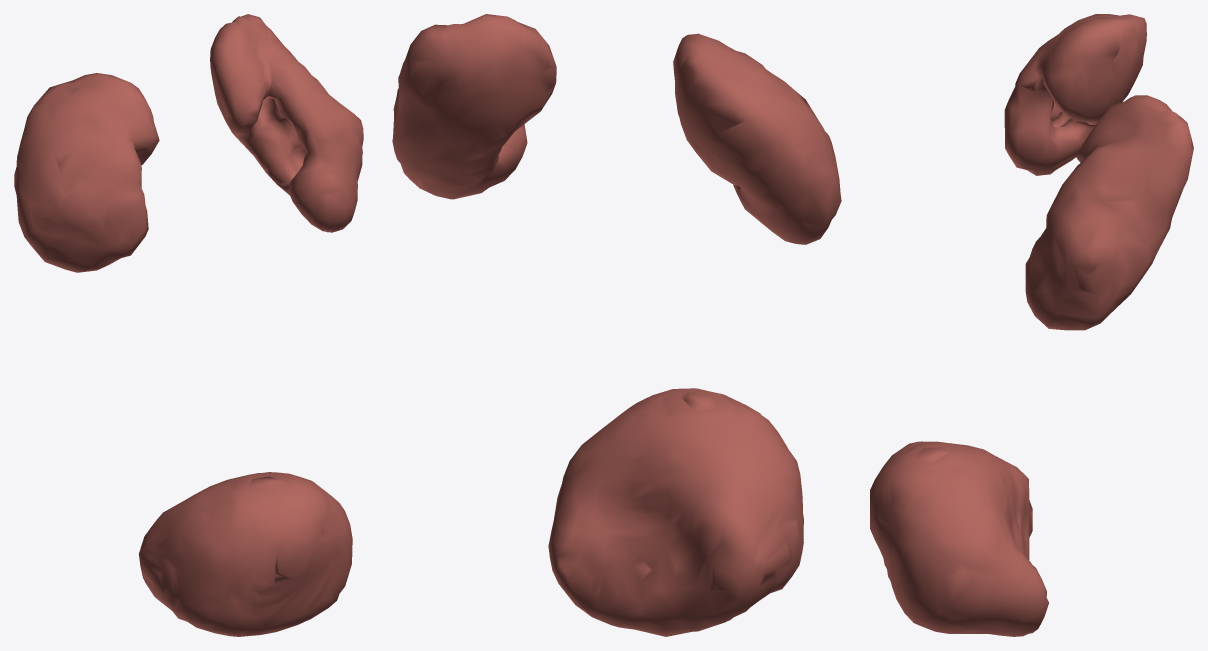
Rendered from tsd_s0196_older_adult_female.urinary.LOD3.glb.
3 views of the same model, side by side, from view 1: azimuth 30°, elevation 25°; view 2: azimuth 150°, elevation 25°; view 3: azimuth 270°, elevation 25° (orthographic). The views are drawn at different scales.
Parts seen in each view (by area): view 1: TSD_S0196.OLDER_ADULT.FEMALE.URINARY.URINARY_BLADDER, TSD_S0196.OLDER_ADULT.FEMALE.URINARY.KIDNEY.R, TSD_S0196.OLDER_ADULT.FEMALE.URINARY.KIDNEY.L; view 2: TSD_S0196.OLDER_ADULT.FEMALE.URINARY.URINARY_BLADDER, TSD_S0196.OLDER_ADULT.FEMALE.URINARY.KIDNEY.L, TSD_S0196.OLDER_ADULT.FEMALE.URINARY.KIDNEY.R; view 3: TSD_S0196.OLDER_ADULT.FEMALE.URINARY.URINARY_BLADDER, TSD_S0196.OLDER_ADULT.FEMALE.URINARY.KIDNEY.L, TSD_S0196.OLDER_ADULT.FEMALE.URINARY.KIDNEY.R.
Part boxes in pixels (x1,y1,x2,y2): TSD_S0196.OLDER_ADULT.FEMALE.URINARY.URINARY_BLADDER: [139, 472, 352, 636]; TSD_S0196.OLDER_ADULT.FEMALE.URINARY.KIDNEY.R: [14, 73, 159, 272]; TSD_S0196.OLDER_ADULT.FEMALE.URINARY.KIDNEY.L: [210, 14, 363, 232]; TSD_S0196.OLDER_ADULT.FEMALE.URINARY.URINARY_BLADDER: [548, 388, 803, 636]; TSD_S0196.OLDER_ADULT.FEMALE.URINARY.KIDNEY.L: [392, 14, 556, 199]; TSD_S0196.OLDER_ADULT.FEMALE.URINARY.KIDNEY.R: [673, 33, 841, 244]; TSD_S0196.OLDER_ADULT.FEMALE.URINARY.URINARY_BLADDER: [870, 441, 1048, 636]; TSD_S0196.OLDER_ADULT.FEMALE.URINARY.KIDNEY.L: [1025, 95, 1193, 330]; TSD_S0196.OLDER_ADULT.FEMALE.URINARY.KIDNEY.R: [1004, 14, 1146, 175].
Size of the model in its own units: 0.1832 by 0.2717 by 0.1406.
